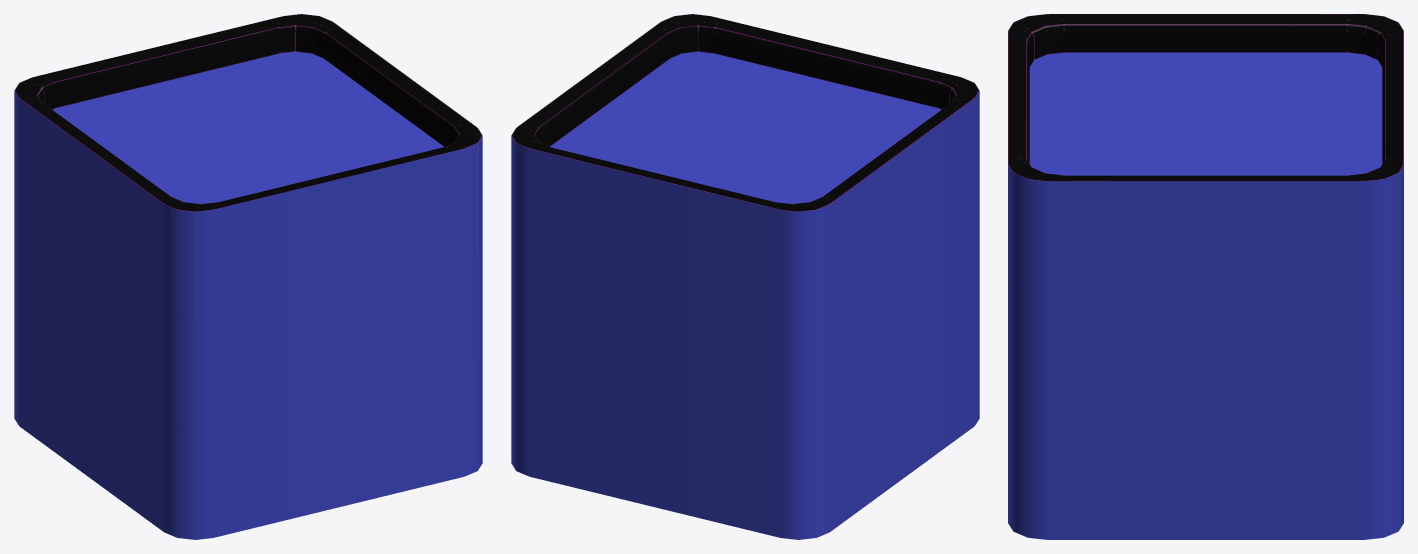
Rendered from StageBlueLv3.fbx.
3 views of the same model, side by side, from view 1: azimuth 30°, elevation 25°; view 2: azimuth 150°, elevation 25°; view 3: azimuth 270°, elevation 25° (orthographic). The views are drawn at different scales.
Visible parts, largest first — view 1: pCube1; view 2: pCube1; view 3: pCube1.
Part boxes in pixels (left/top/right/bottom): pCube1: left=14, top=14, right=482, bottom=539; pCube1: left=511, top=14, right=979, bottom=539; pCube1: left=1008, top=14, right=1403, bottom=539.
Size of the model in its own units: 1 by 1 by 1.
Materials: 1 (1 with a texture image).
